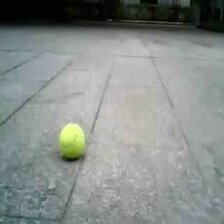tennis: (59, 124, 85, 157)
